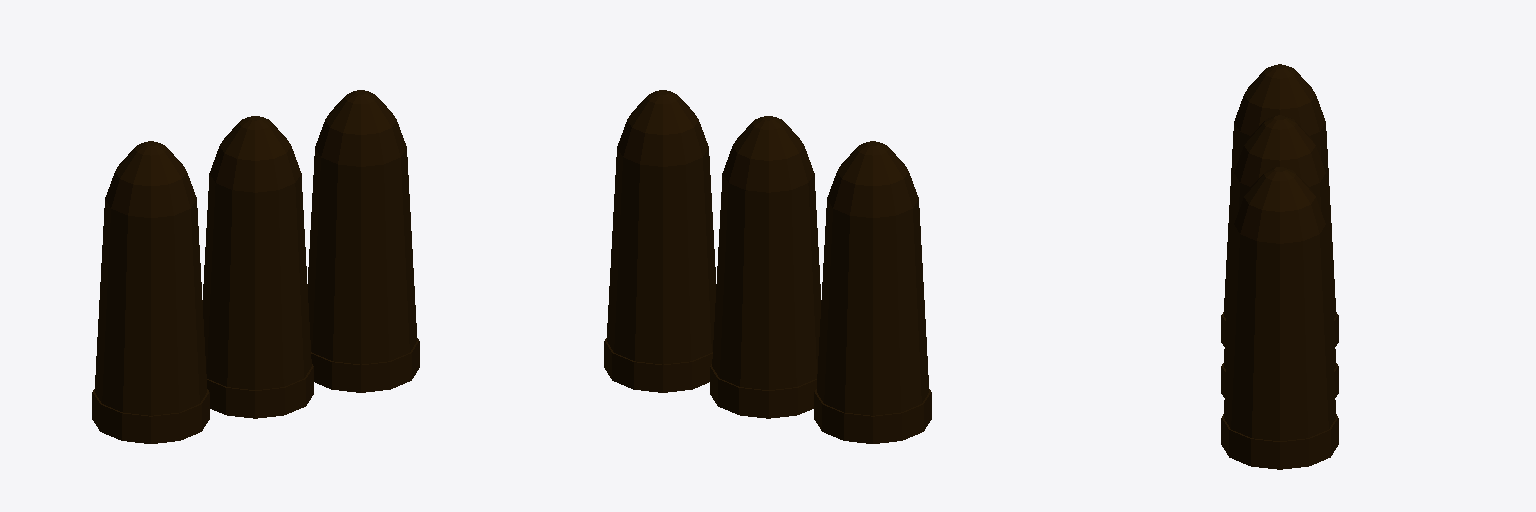
Rendered from 3_ammo_pickup.obj.
3 renders of one model, left to right at view 1: azimuth 30°, elevation 25°; view 2: azimuth 150°, elevation 25°; view 3: azimuth 270°, elevation 25°, orthographic.
Parts seen in each view (by area): view 1: bullet; view 2: bullet; view 3: bullet.
Boxes of the visible parts, x1=… form: bullet: x1=92, y1=90, x2=419, y2=443; bullet: x1=604, y1=90, x2=931, y2=443; bullet: x1=1221, y1=64, x2=1338, y2=469.
Size of the model in its own units: 1.18 by 1 by 0.3845.